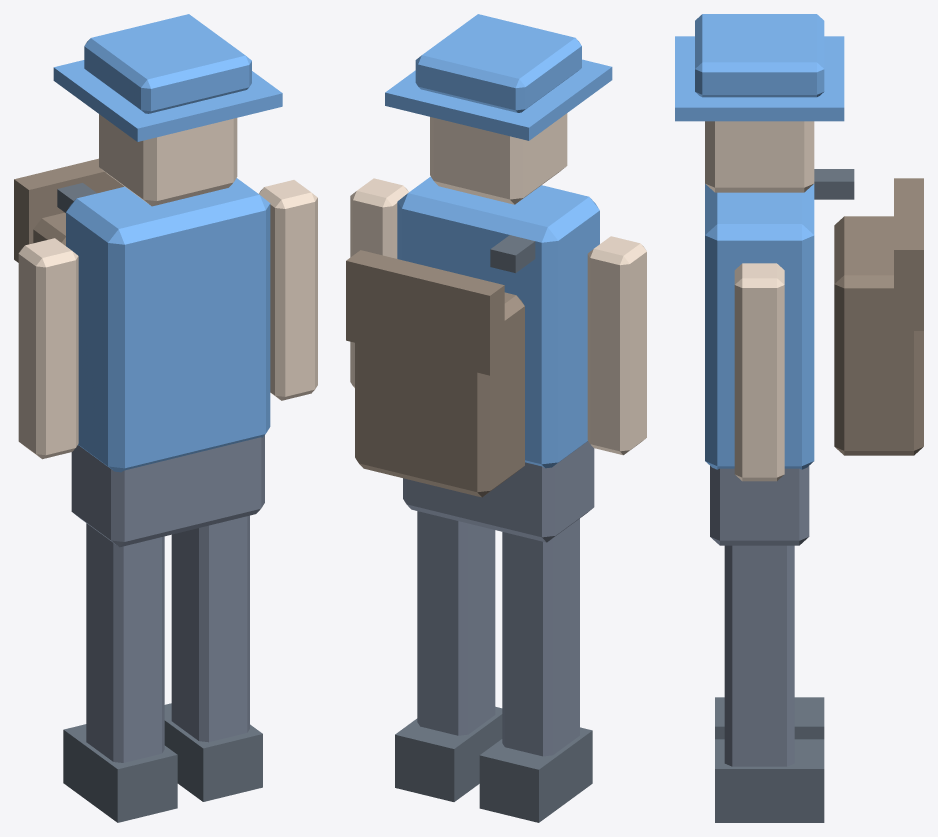
File: pawn_remote.glb
3 views of the same model, side by side, from view 1: azimuth 30°, elevation 25°; view 2: azimuth 150°, elevation 25°; view 3: azimuth 270°, elevation 25° (orthographic).
Visible parts, largest first — view 1: pawn_remote; view 2: pawn_remote; view 3: pawn_remote.
Boxes of the visible parts, x1,y1,x2,y2 form: pawn_remote: (14, 14, 317, 822); pawn_remote: (346, 14, 646, 822); pawn_remote: (675, 14, 923, 822).
Bounding box in the file's own units: 0.66 × 1.66 × 0.5.
